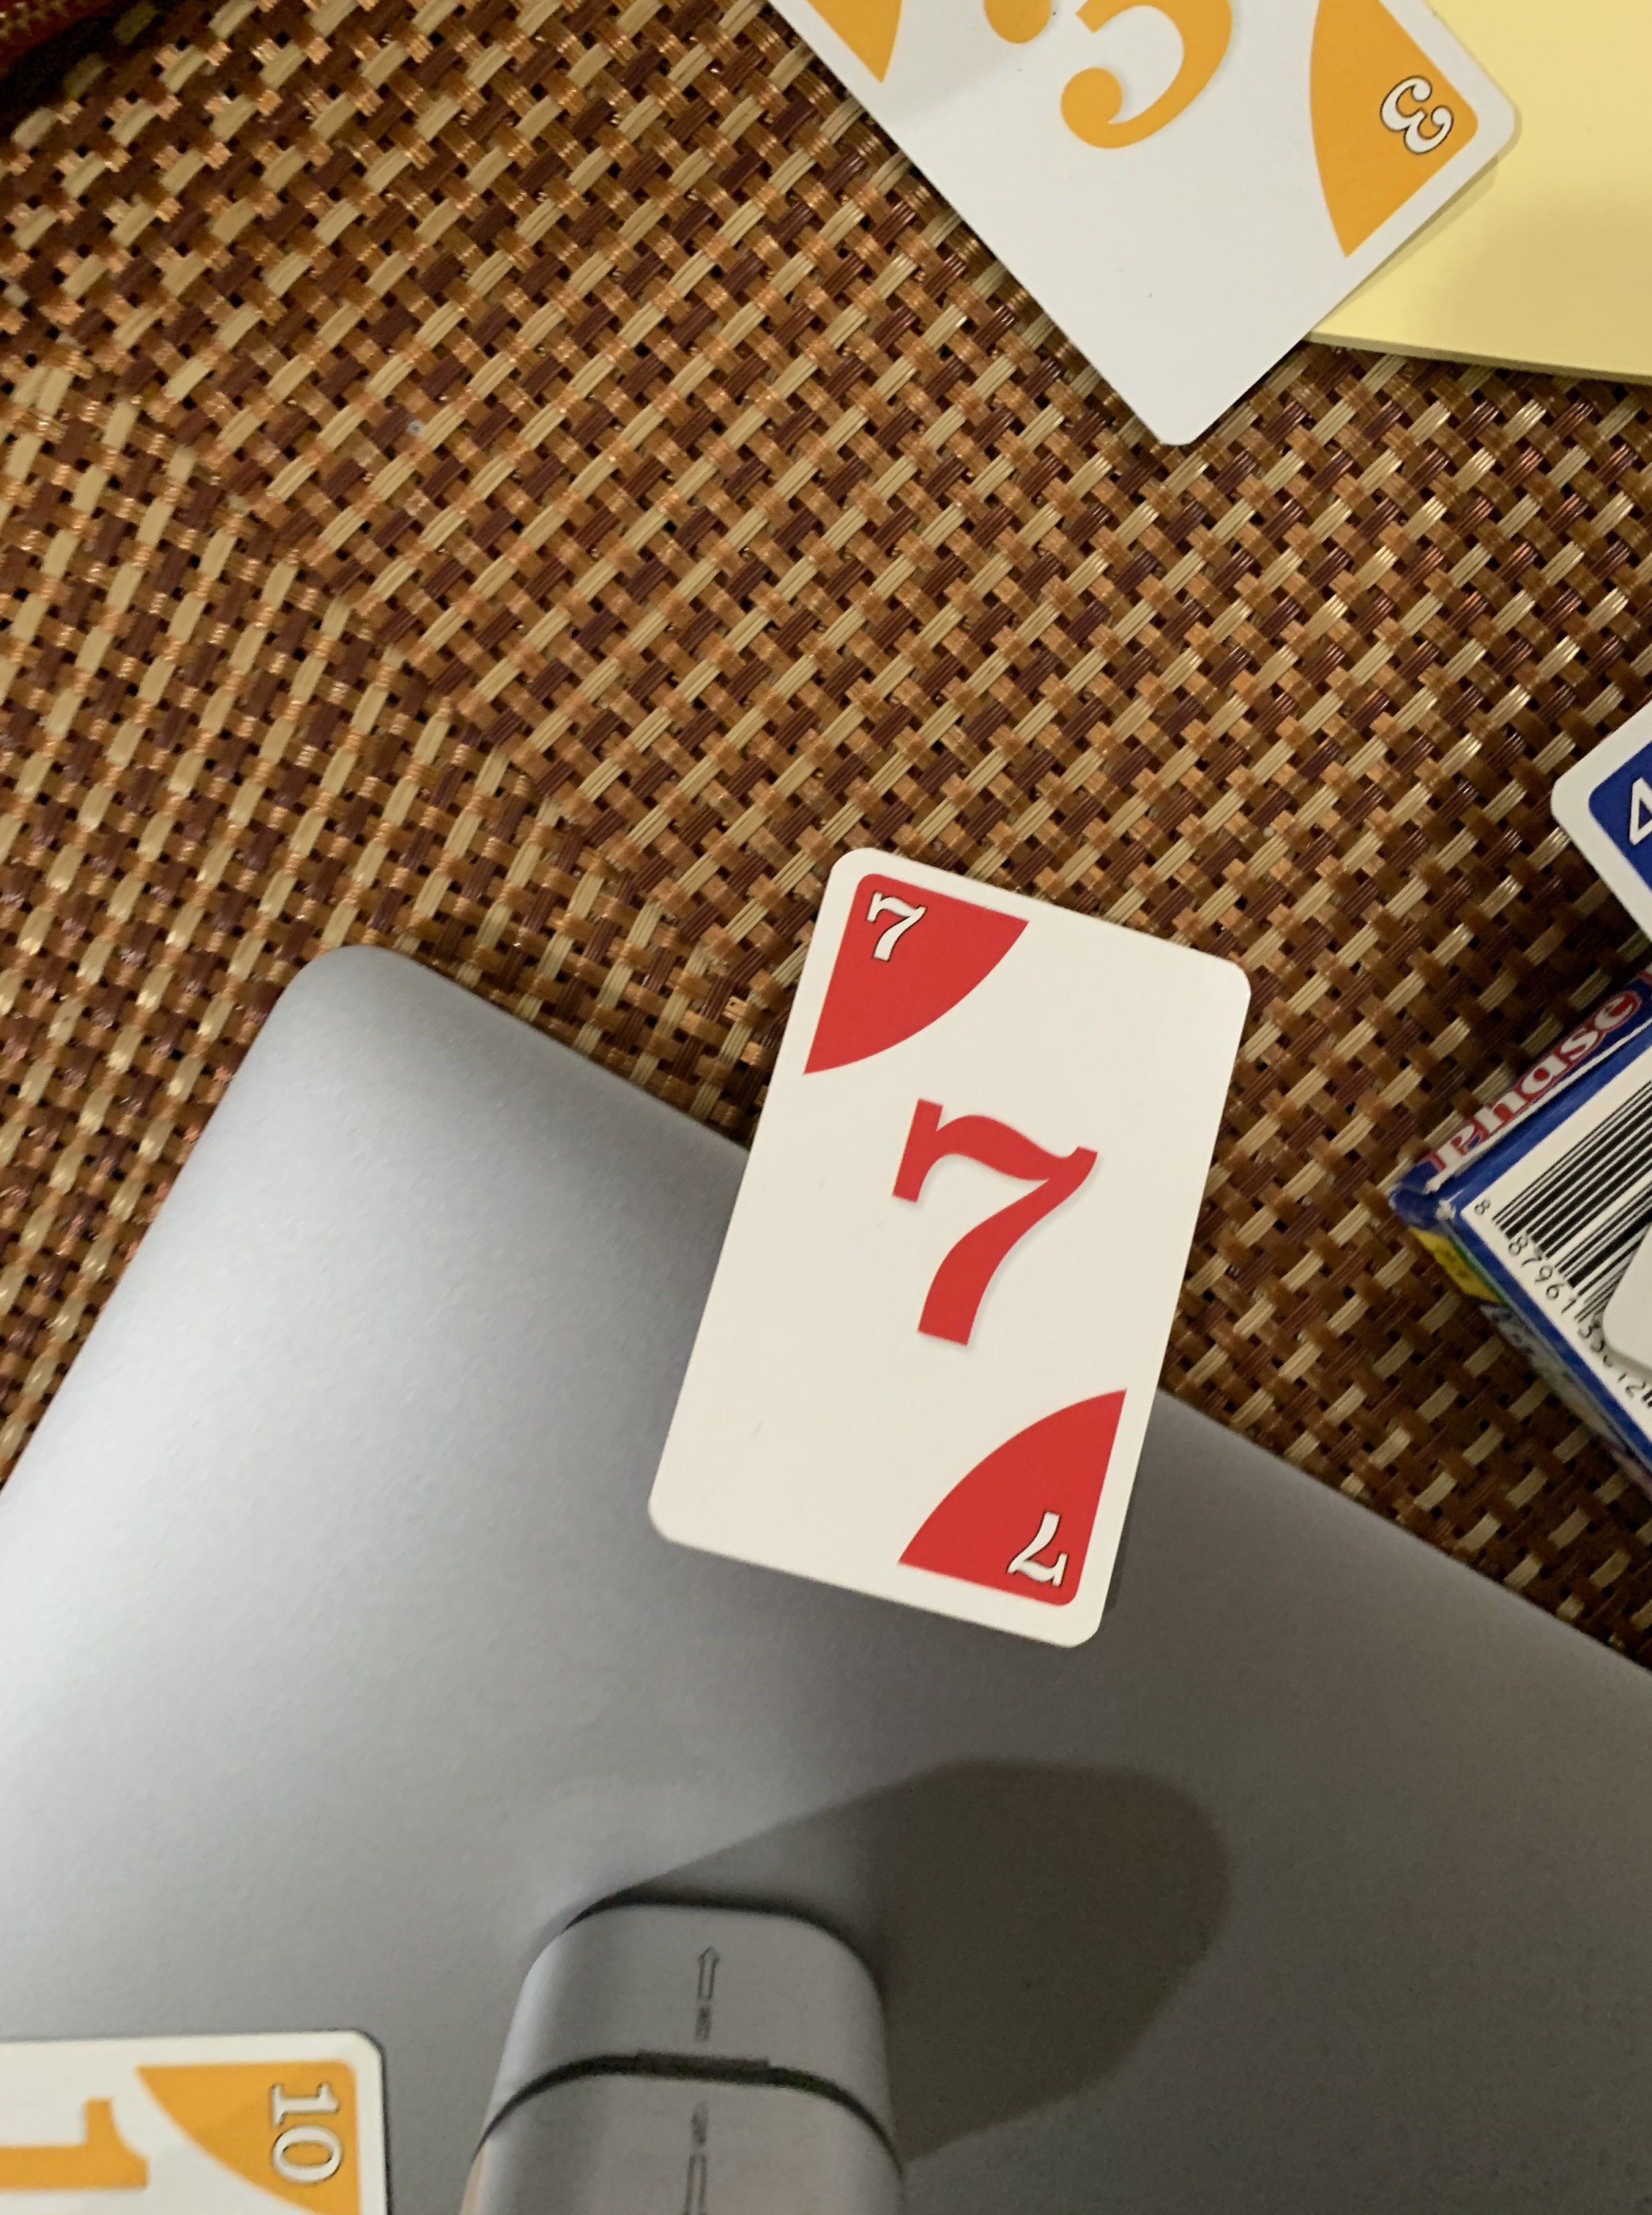seven: (618, 831, 1267, 1660)
